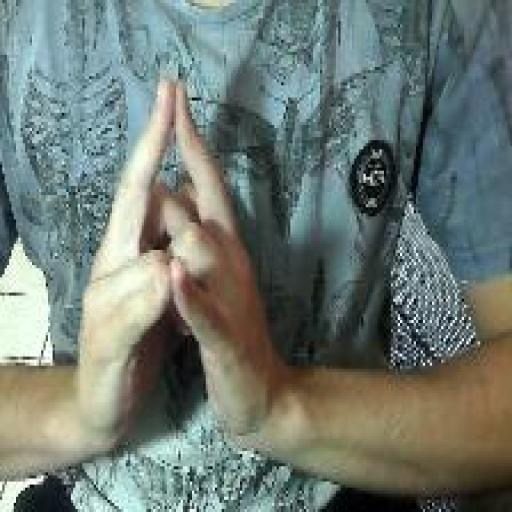Tori -bird-: (74, 74, 278, 452)
